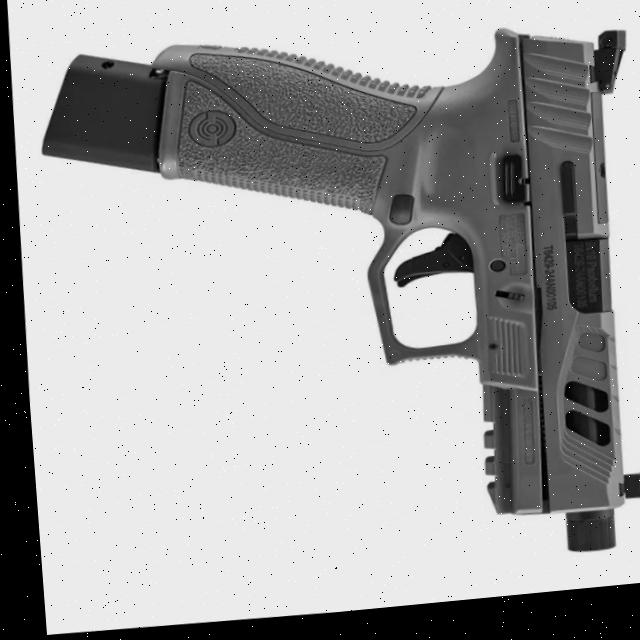gun: (37, 27, 640, 553)
